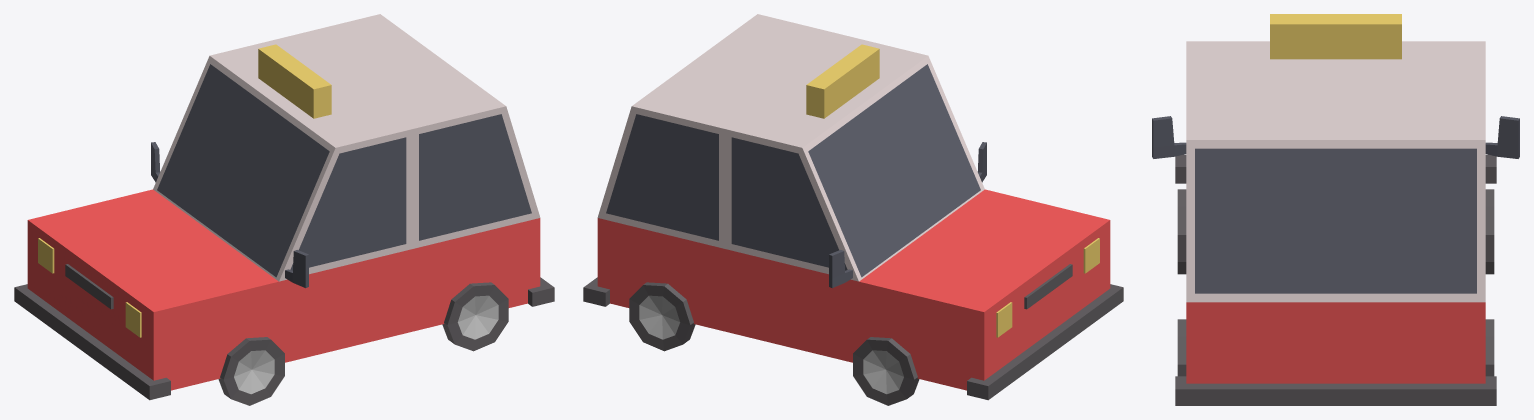
The model's file is BasicCar02.fbx.
3 renders of one model, left to right at view 1: azimuth 30°, elevation 25°; view 2: azimuth 150°, elevation 25°; view 3: azimuth 270°, elevation 25°, orthographic. The views are drawn at different scales.
Parts seen in each view (by area): view 1: Tico_car02; view 2: Tico_car02; view 3: Tico_car02.
Boxes of the visible parts, x1,y1,x2,y2 form: Tico_car02: (14,14,554,405); Tico_car02: (583,14,1123,405); Tico_car02: (1152,14,1519,405).
Size of the model in its own units: 25.64 by 16.99 by 15.92.
